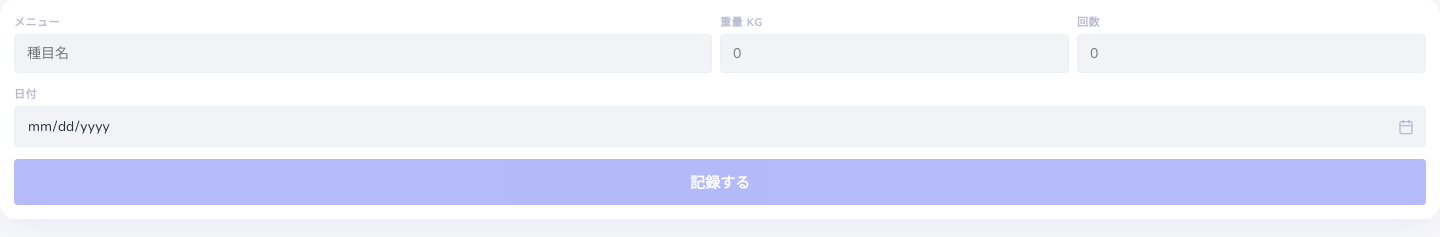
WorkoutForm › has submit button disabled when all workout fields are valid but date is explicitly cleared
Step 1. Type "ベンチプレス" into the field with id "wo-menu" → (363, 54), box 14,34 -> 712,73
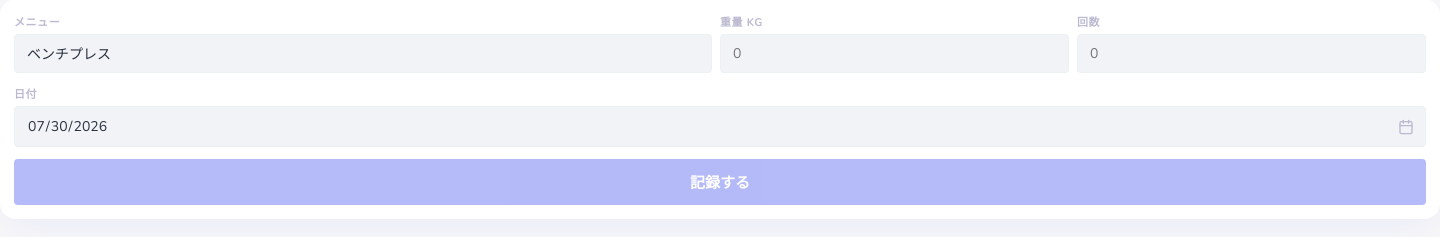
Step 2. Type "60" into the number field with id "wo-intensity" → (894, 54), box 720,34 -> 1069,73
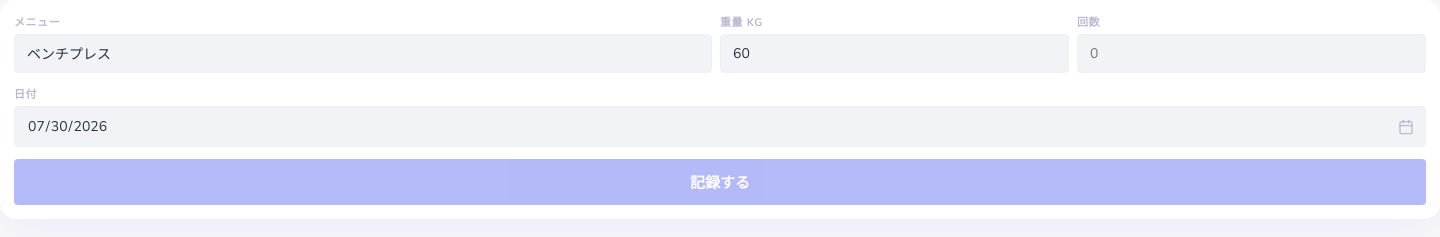
Step 3. Type "10" into the number field with id "wo-reps" → (1252, 54), box 1077,34 -> 1426,73
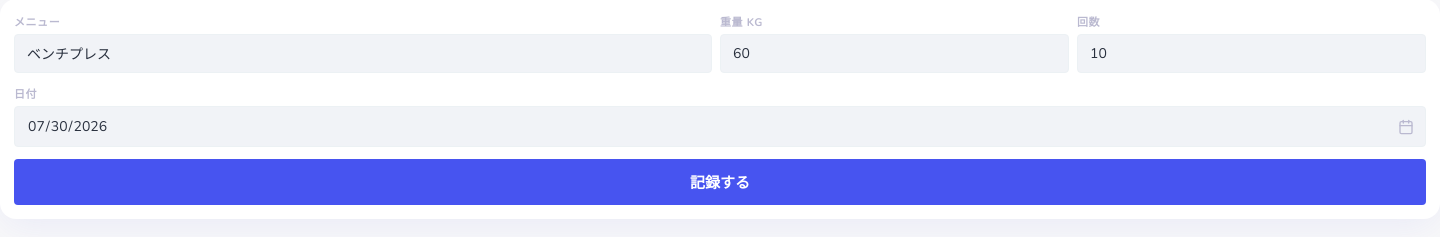
Step 4. Clear the date field labelled "日付" → (720, 126), box 14,106 -> 1426,147
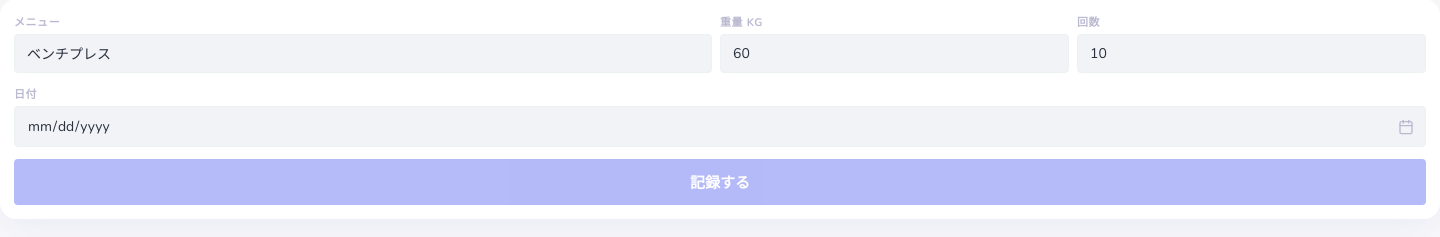
Check: the submit button is disabled, box 14,159 -> 1426,205
